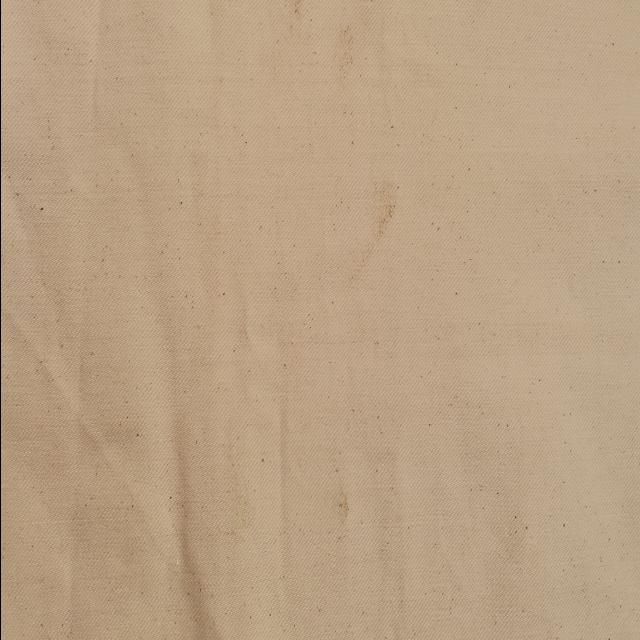taaaches: (336, 172, 400, 272), (334, 20, 358, 90), (330, 476, 352, 538), (288, 0, 303, 24)
